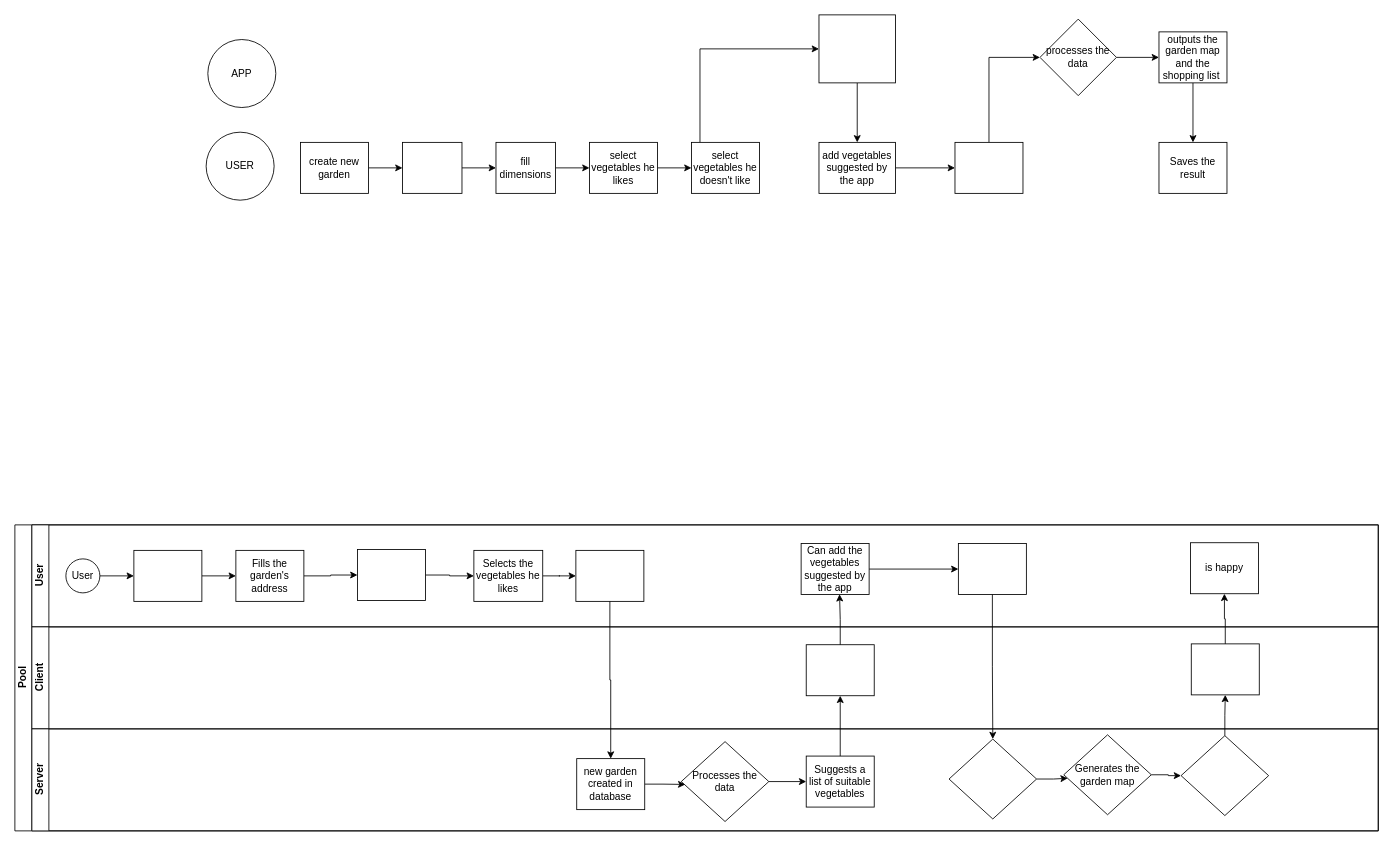
Image size: 1393x846. Some labels were removed from this diagram. The shapes that lost their labels are listed below. From the top down, each one's centre as x and y in pixels, then its label:
At (856,48): "suggests vegetables associated with ones choosed by user".
At (432,167): "fill location".
At (988,167): "validates inputs".
At (167,575): "Creates new garden".
At (391,575): "Fills the garden's dimensions (length-width)".
At (609,575): "Selects the vegetables he doesn't like".
At (992,569): "Validates".
At (839,670): "Displays the list".
At (1224,669): "Displays the garden map and shopping list".
At (992,778): "Porcesses the data".
At (1224,775): "Generates the shopping list".
